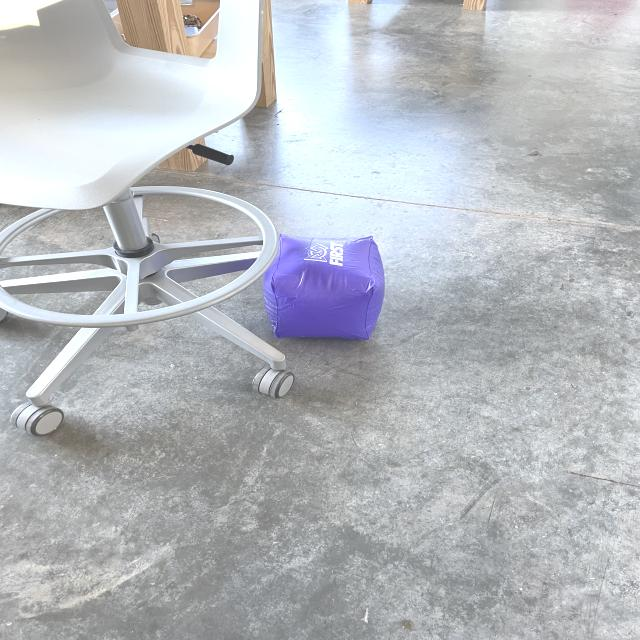frc_cube: (253, 231, 395, 342)
